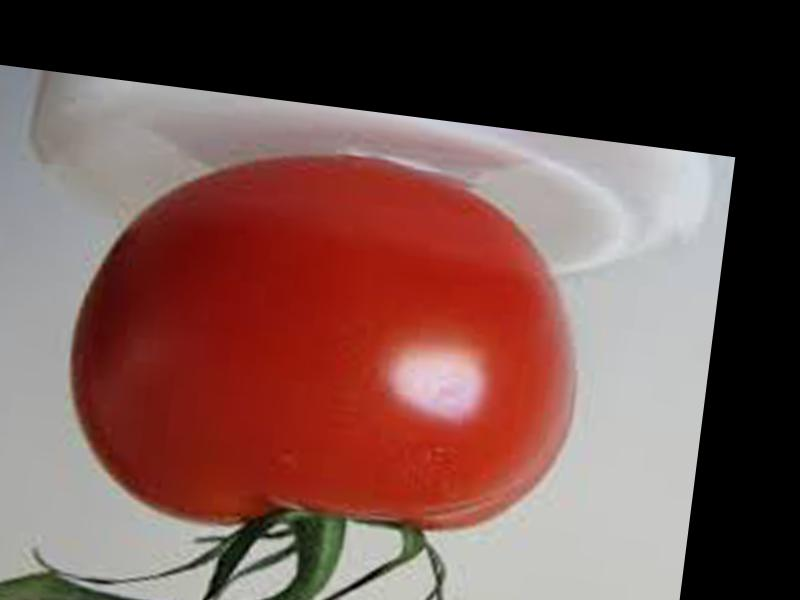Tomato: (51, 126, 600, 567)
